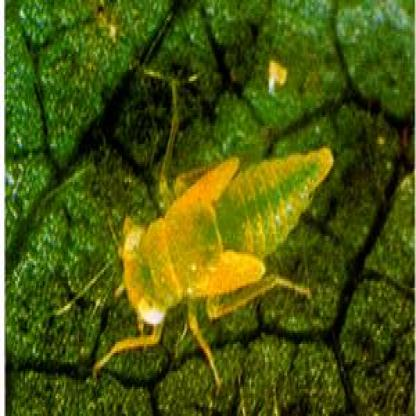Green-Leafhopper: (56, 121, 348, 405)
